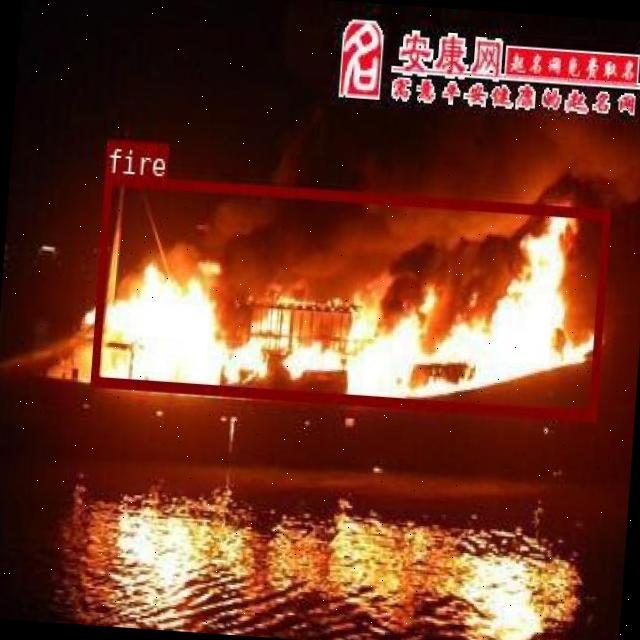fire: (90, 173, 608, 420)
